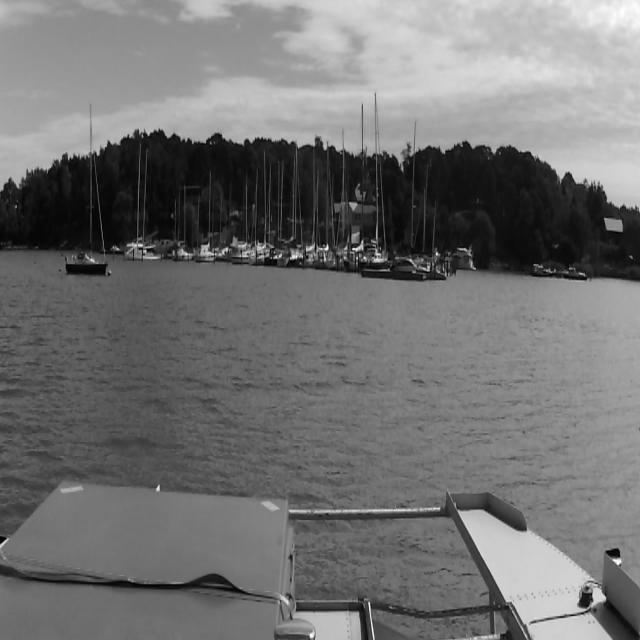ship: (64, 98, 110, 276), (125, 142, 163, 260), (364, 94, 386, 268), (398, 129, 423, 273), (233, 170, 259, 263), (349, 103, 363, 272), (196, 170, 218, 260), (319, 138, 333, 268), (261, 154, 277, 263), (172, 185, 194, 259), (305, 137, 317, 268), (336, 129, 346, 271), (392, 256, 444, 283), (277, 159, 289, 266), (292, 140, 301, 266), (220, 180, 232, 258), (449, 246, 477, 270)
